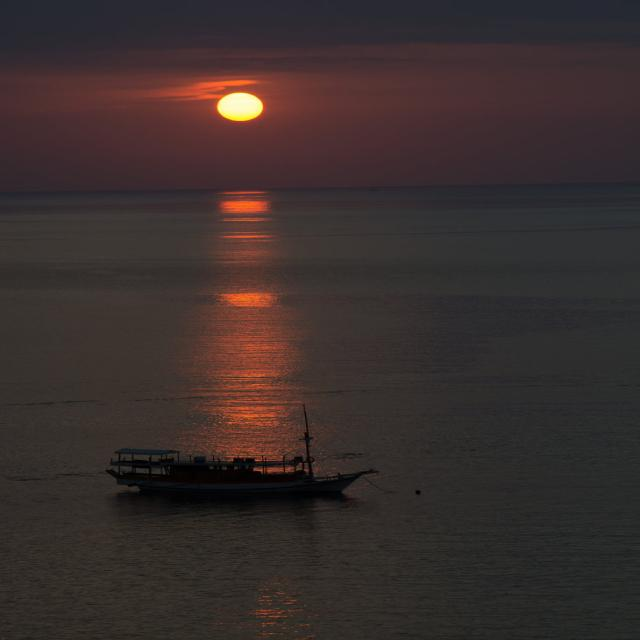Boat: (101, 427, 395, 525)
